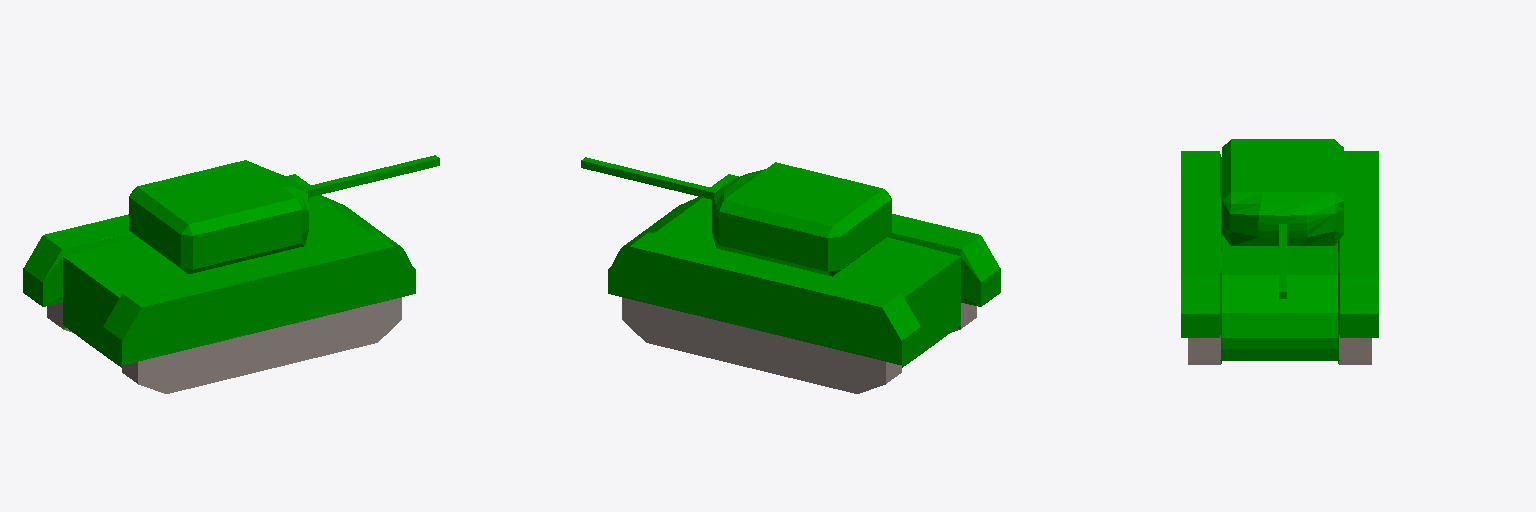
File: tank2.obj
3 renders of one model, left to right at view 1: azimuth 30°, elevation 25°; view 2: azimuth 150°, elevation 25°; view 3: azimuth 270°, elevation 25°, orthographic.
Parts seen in each view (by area): view 1: Hull_Cube.001, Turret_Cube; view 2: Hull_Cube.001, Turret_Cube; view 3: Hull_Cube.001, Turret_Cube.
Boxes of the visible parts, box(x1,y1,x2,y2) form: Hull_Cube.001: box(23, 174, 415, 393); Turret_Cube: box(129, 155, 439, 273); Hull_Cube.001: box(608, 174, 1000, 393); Turret_Cube: box(581, 157, 891, 276); Hull_Cube.001: box(1181, 151, 1378, 364); Turret_Cube: box(1222, 139, 1343, 298).
Size of the model in its own units: 4.64 by 1.74 by 2.17.